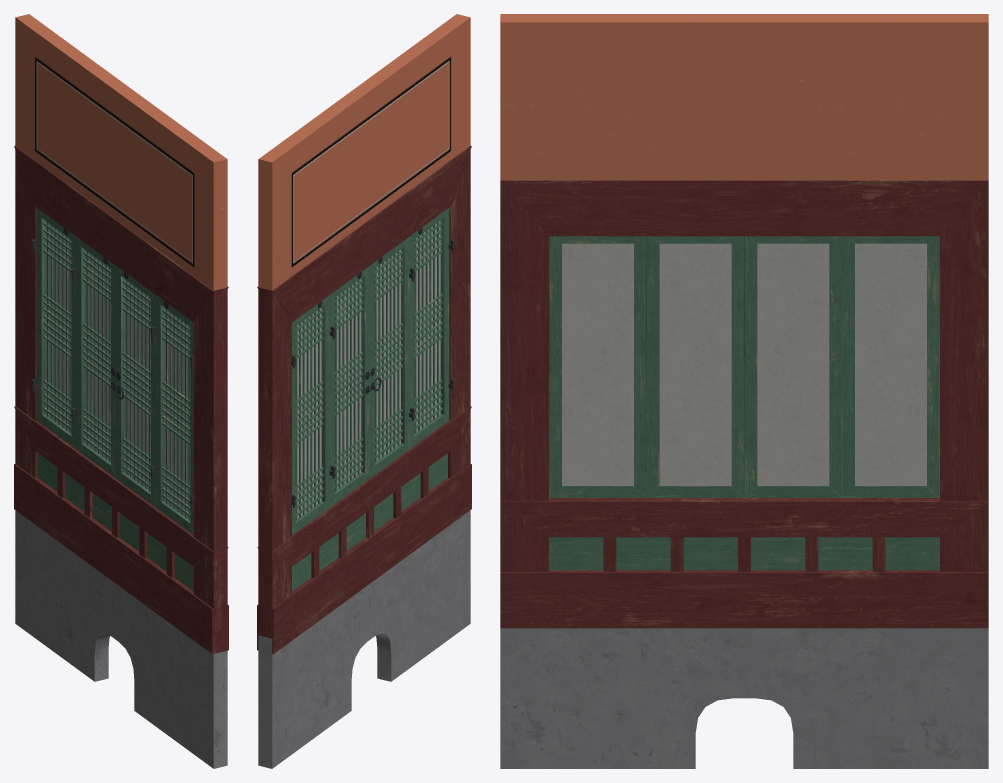
Rendered from SM_CGJ_Wall01f.fbx.
3 renders of one model, left to right at view 1: azimuth 30°, elevation 25°; view 2: azimuth 150°, elevation 25°; view 3: azimuth 270°, elevation 25°, orthographic. The views are drawn at different scales.
Parts seen in each view (by area): view 1: SM_CGJ_Wall01f; view 2: SM_CGJ_Wall01f; view 3: SM_CGJ_Wall01f.
Boxes of the visible parts, x1=… form: SM_CGJ_Wall01f: x1=14, y1=14, x2=228, y2=768; SM_CGJ_Wall01f: x1=257, y1=14, x2=471, y2=768; SM_CGJ_Wall01f: x1=500, y1=14, x2=988, y2=768.
Size of the model in its own units: 13.46 by 250 by 422.
6 materials, 6 textured.
